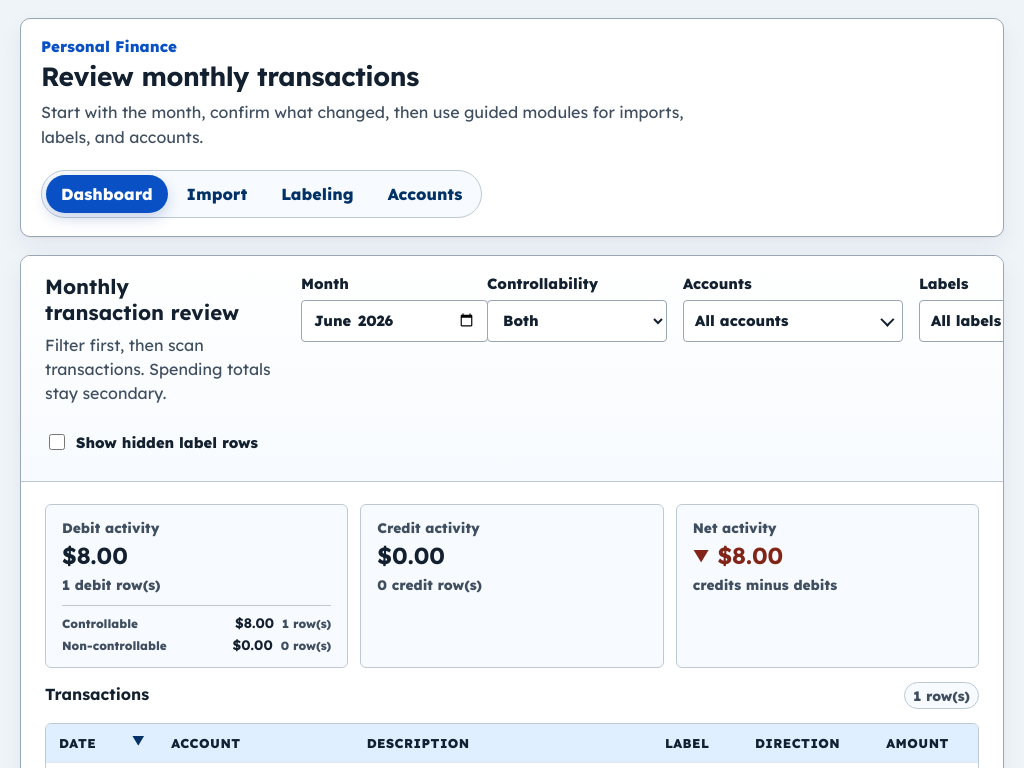
Test: App › updates dashboard data when month changes and shows empty transaction state
Replace the text in the field labelled "Month" with "2026-02" at (394, 321), box x1=301 y1=300 x2=488 y2=342
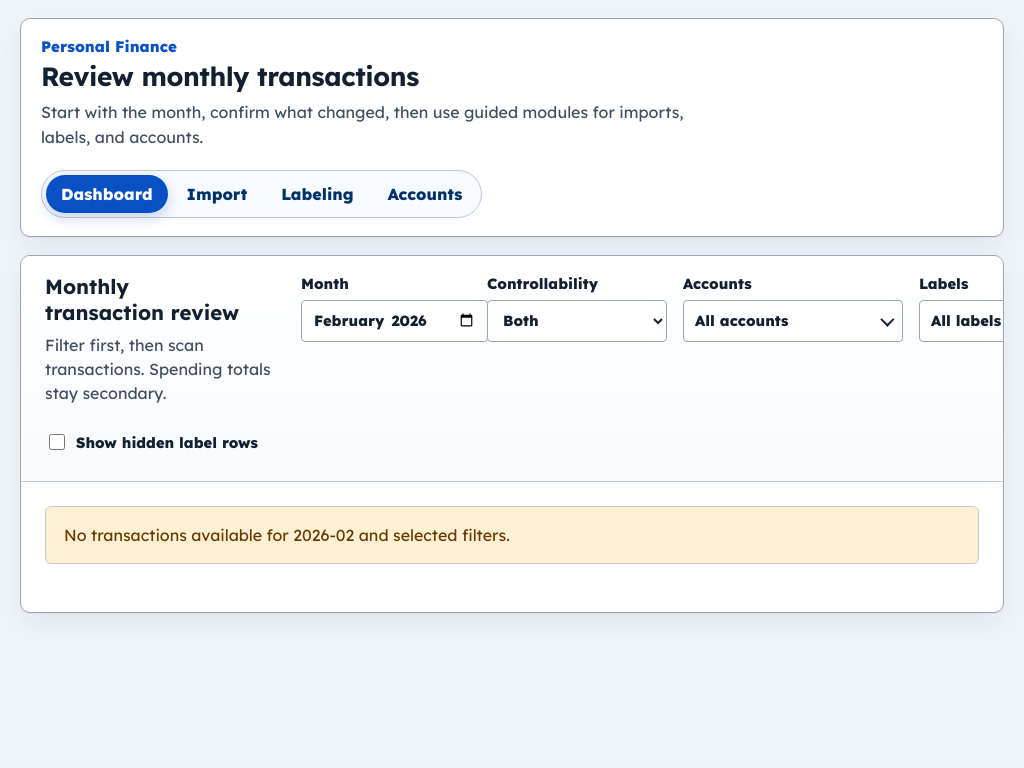
Now the text "No transactions available for 2026-02 and selected filters." is shown, box x1=45 y1=506 x2=979 y2=564
